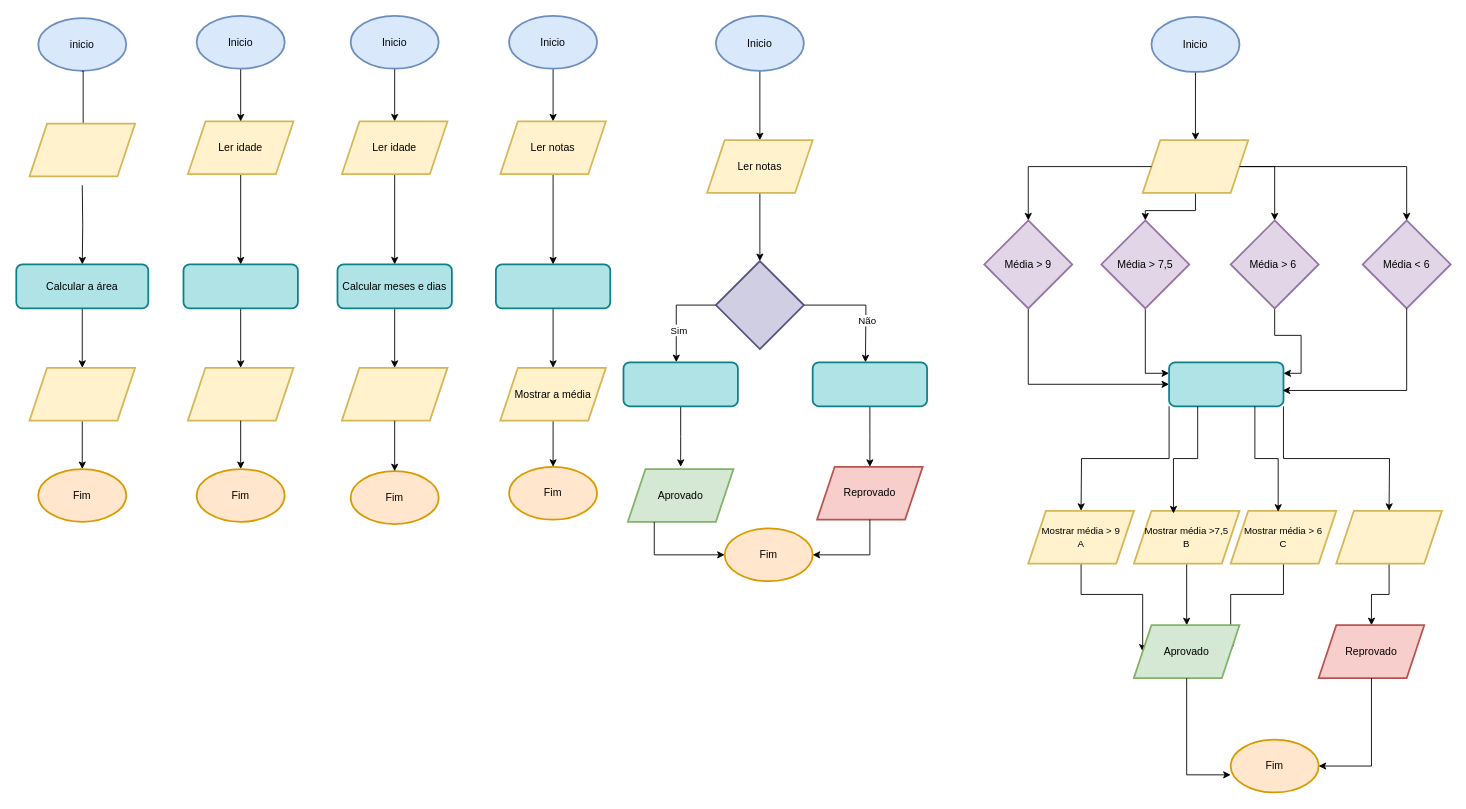
This 1466x809 diagram has some shape labels left out. The centre of each missing label's shape, as x and y in pixels:
"Calcular dias" goes at pixel 240 286.
"Calcular média" goes at pixel 553 286.
"Calcular média < 5" goes at pixel 869 384.
"Calcular média > 5" goes at pixel 680 384.
"Calcular médias" goes at pixel 1226 384.
"Ler largura e comprimento" goes at pixel 82 149.
"Ler média" goes at pixel 1195 166.
"Mostra média < 6 F" goes at pixel 1388 537.
"Mostra os meses e dias" goes at pixel 394 394.
"Mostrar dias" goes at pixel 240 394.
"Mostrar área" goes at pixel 82 394.
"Média Alcançada" goes at pixel 759 305.
